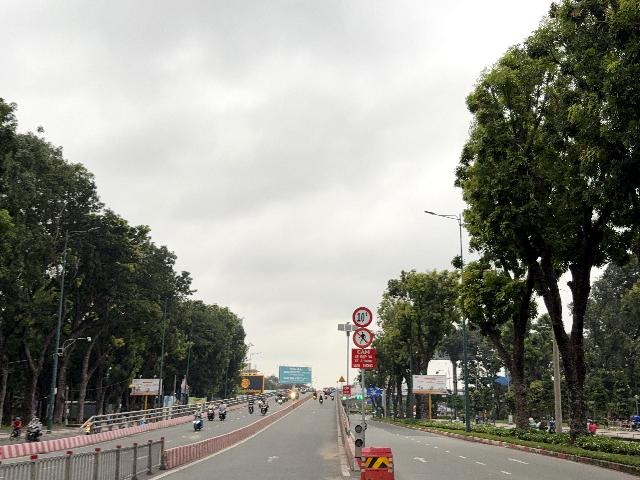cam-nguoi-di-bo: (353, 328, 373, 348)
han-che-trong-luong-xe: (353, 307, 372, 328)
